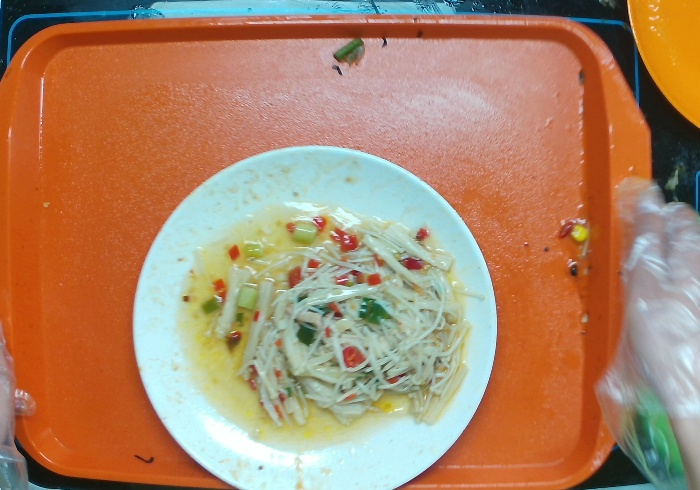HZYJPL-Bai_Se_Yuan_Pan: (130, 143, 498, 490)
